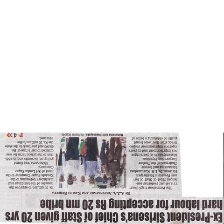news_paper: (0, 131, 223, 224)
